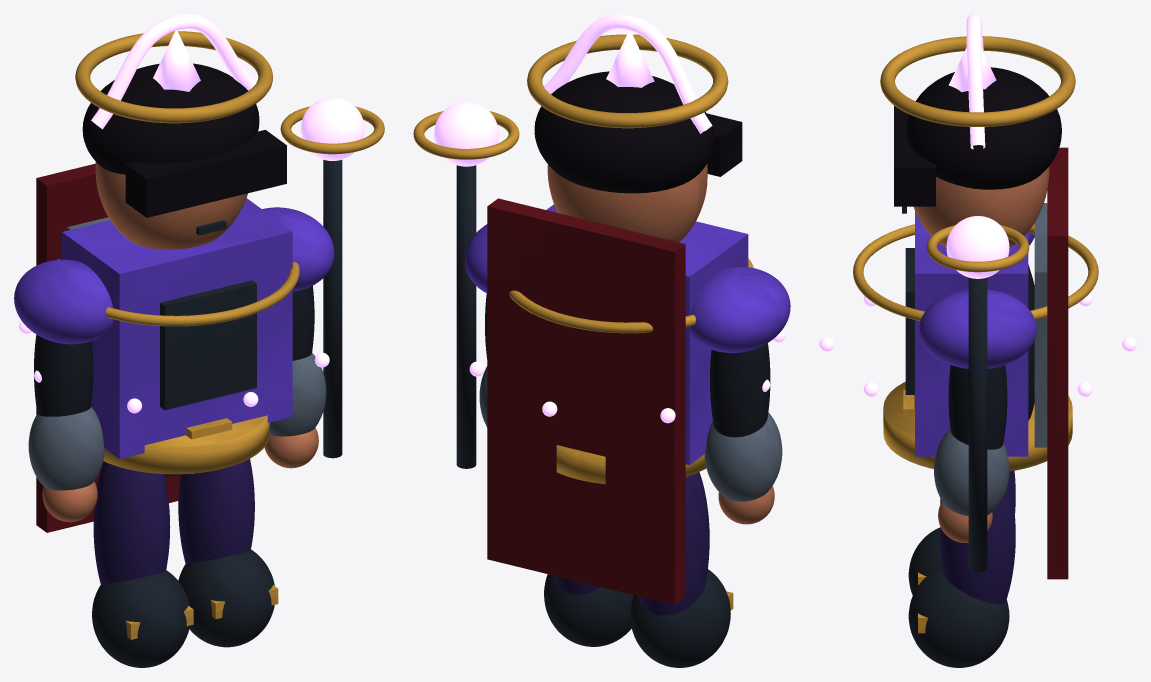
The model's file is Transcendence.glb.
3 renders of one model, left to right at view 1: azimuth 30°, elevation 25°; view 2: azimuth 150°, elevation 25°; view 3: azimuth 270°, elevation 25°, orthographic. The views are drawn at different scales.
Visible parts, largest first — view 1: ChestPlate, Hair, ChestInset, HairFringe, Leg, Boot, Boot.001, Leg.001, Shoulder, Cape, CrownRing, Staff (+15 smaller); view 2: Cape, Hair, Shoulder, ChestPlate, Head, CrownRing, Staff, Boot, Arm, Gauntlet, Boot.001, TranscendentCrest (+9 smaller); view 3: Hair, ChestPlate, Cape, Boot.001, CrownRing, Shoulder.001, Staff, Head, Leg.001, Gauntlet.001, BackArmor, WaistGuard (+11 smaller).
Part boxes in pixels (x1,y1,x2,y2): ChestPlate: (62,198,292,458); Hair: (82,63,259,174); ChestInset: (160,280,256,410); HairFringe: (125,129,286,217); Leg: (93,461,170,584); Boot: (92,570,189,667); Boot.001: (178,549,274,647); Leg.001: (178,459,254,563); Shoulder: (14,259,113,344); Cape: (36,163,180,532); CrownRing: (75,31,272,123); Staff: (323,159,342,458); Cape: (487,198,685,604); Hair: (534,71,714,193); Shoulder: (688,267,790,352); ChestPlate: (546,204,748,464); Head: (547,164,707,242); CrownRing: (527,34,728,128); Staff: (456,165,476,468); Boot: (630,569,730,667); Arm: (710,343,770,437); Gauntlet: (704,412,782,501); Boot.001: (544,574,633,646); TranscendentCrest: (544,14,712,133); Hair: (906,67,1061,189); ChestPlate: (915,211,1028,456); Cape: (1047,147,1068,579); Boot.001: (908,567,1009,667); CrownRing: (880,36,1075,126); Shoulder.001: (919,289,1036,368); Staff: (968,277,987,572); Head: (913,166,1049,247); Leg.001: (940,480,1015,604); Gauntlet.001: (934,429,1009,515); BackArmor: (1034,203,1047,447); WaistGuard: (883,382,1072,471).
Bounding box in the file's own units: 1.93 × 3.27 × 1.51.
Materials: 12 (9 with a texture image).
